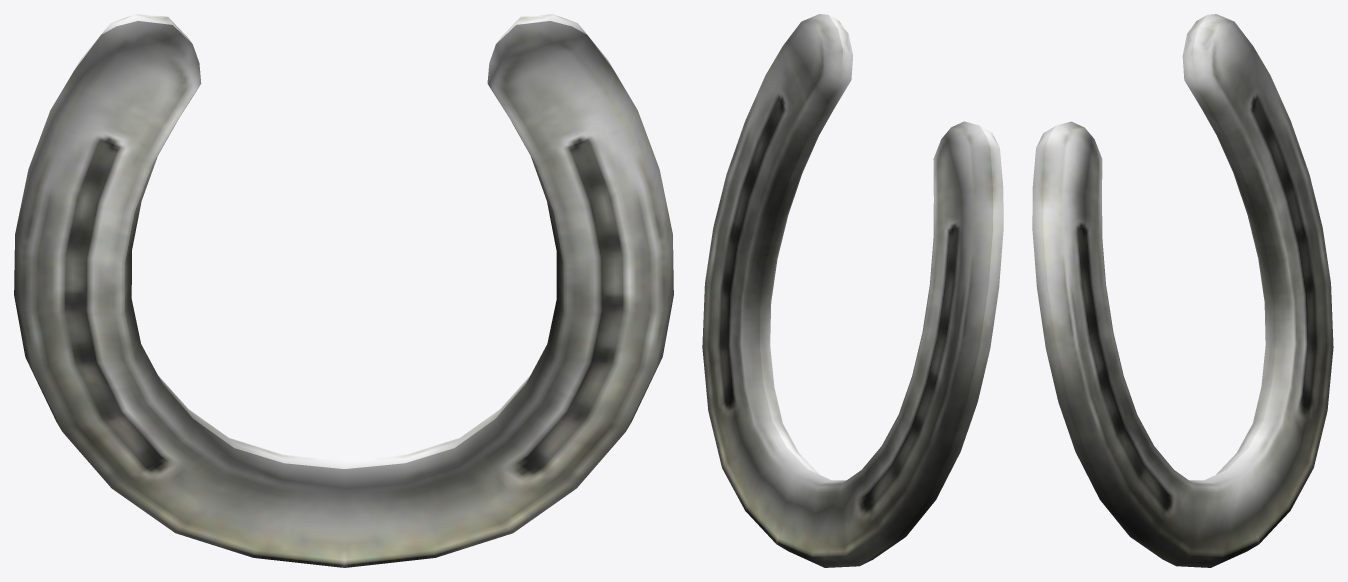
The model's file is trial.icn.obj.
3 renders of one model, left to right at view 1: azimuth 30°, elevation 25°; view 2: azimuth 150°, elevation 25°; view 3: azimuth 270°, elevation 25°, orthographic. The views are drawn at different scales.
Bounding box in the file's own units: 3.9 × 4.5 × 2.71.
Materials: 1 (1 with a texture image).
